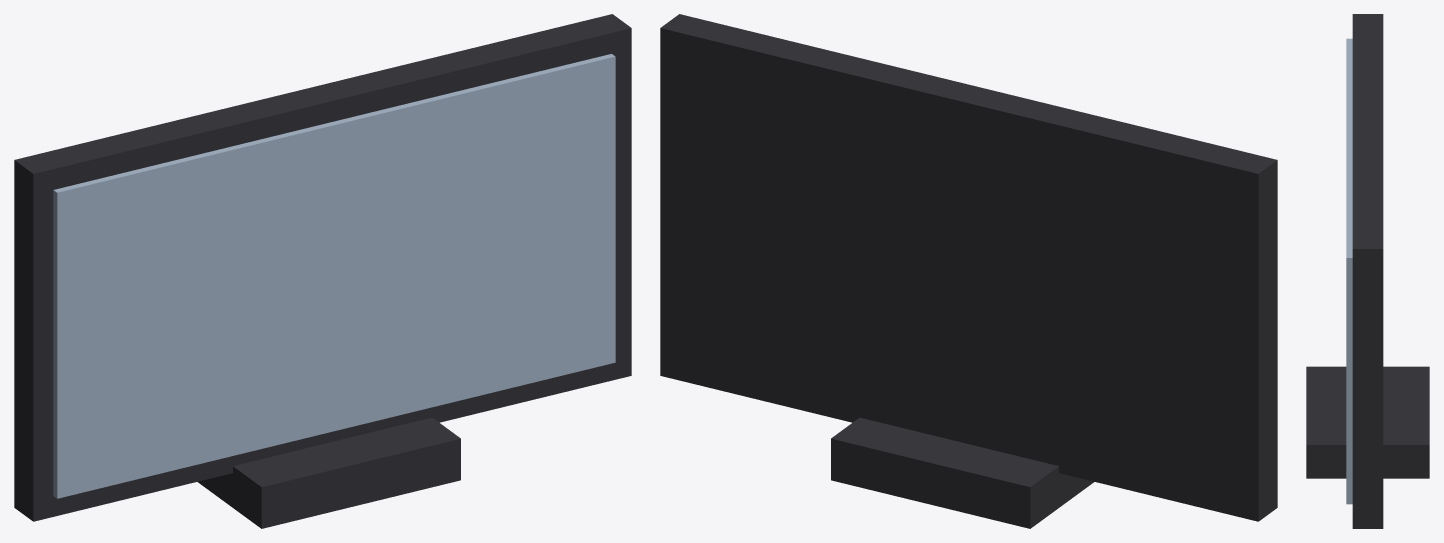
Rendered from Esya_TV.glb.
3 views of the same model, side by side, from view 1: azimuth 30°, elevation 25°; view 2: azimuth 150°, elevation 25°; view 3: azimuth 270°, elevation 25° (orthographic). The views are drawn at different scales.
Visible parts, largest first — view 1: Esya_TV; view 2: Esya_TV; view 3: Esya_TV.
Boxes of the visible parts, left/top/right/bottom form: Esya_TV: left=14, top=14, right=631, bottom=528; Esya_TV: left=660, top=14, right=1277, bottom=528; Esya_TV: left=1306, top=14, right=1429, bottom=528.
Size of the model in its own units: 0.9 by 0.55 by 0.2.
